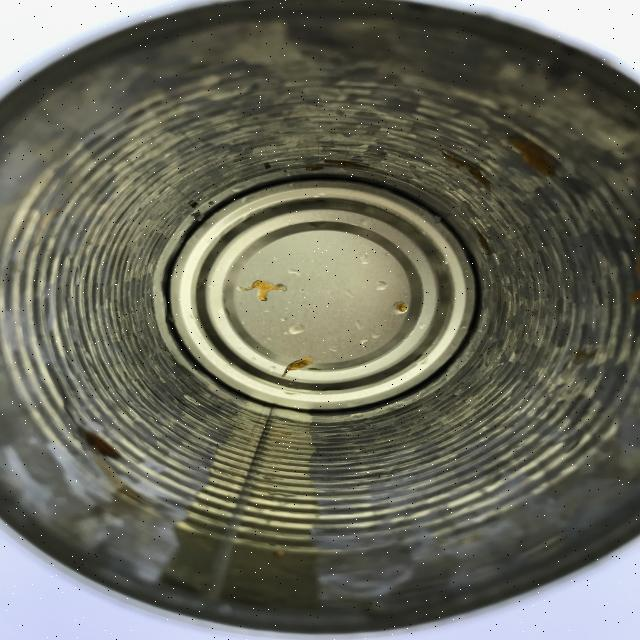metal: (1, 1, 639, 636)
